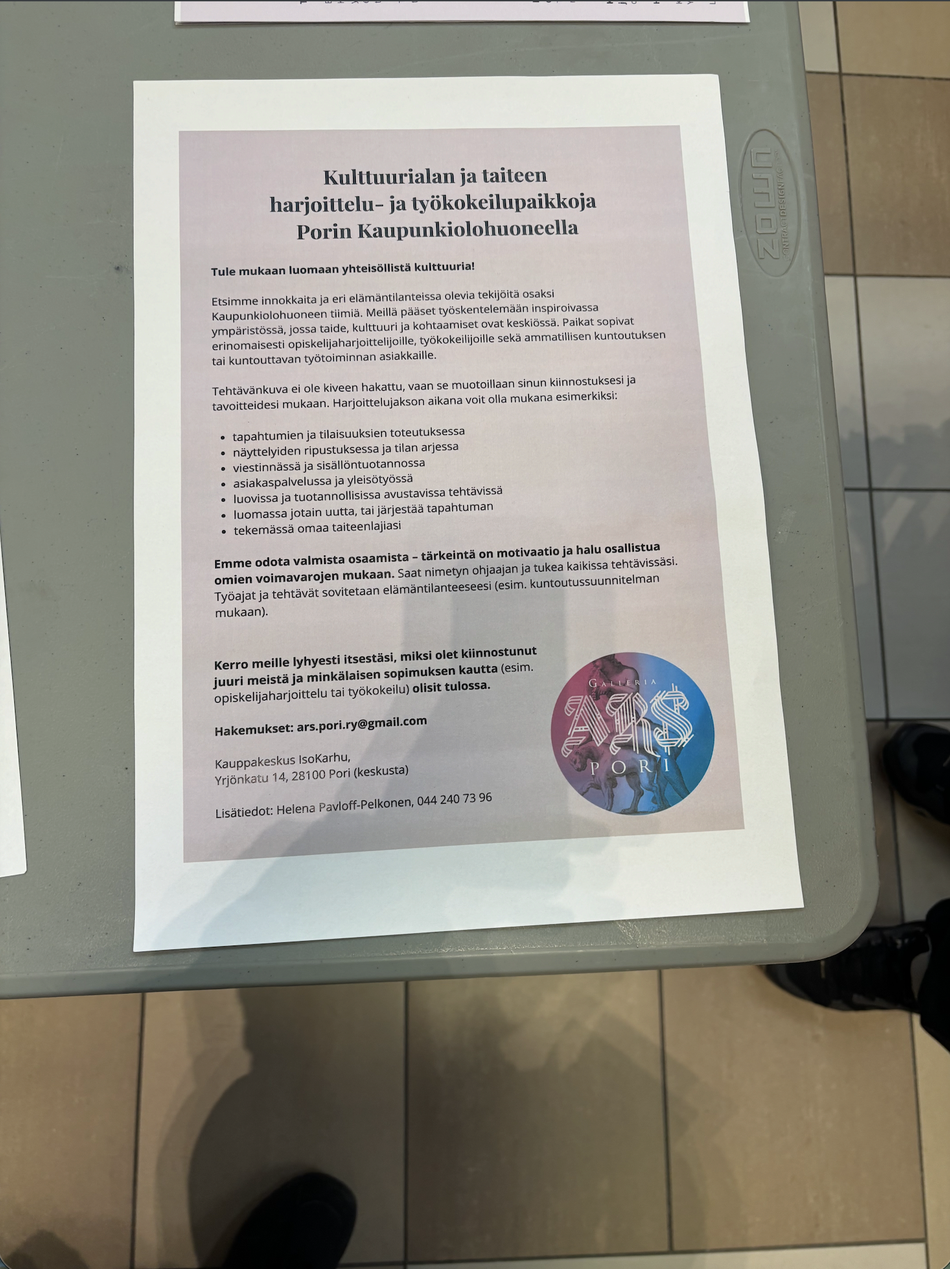paper: (130, 72, 805, 956)
